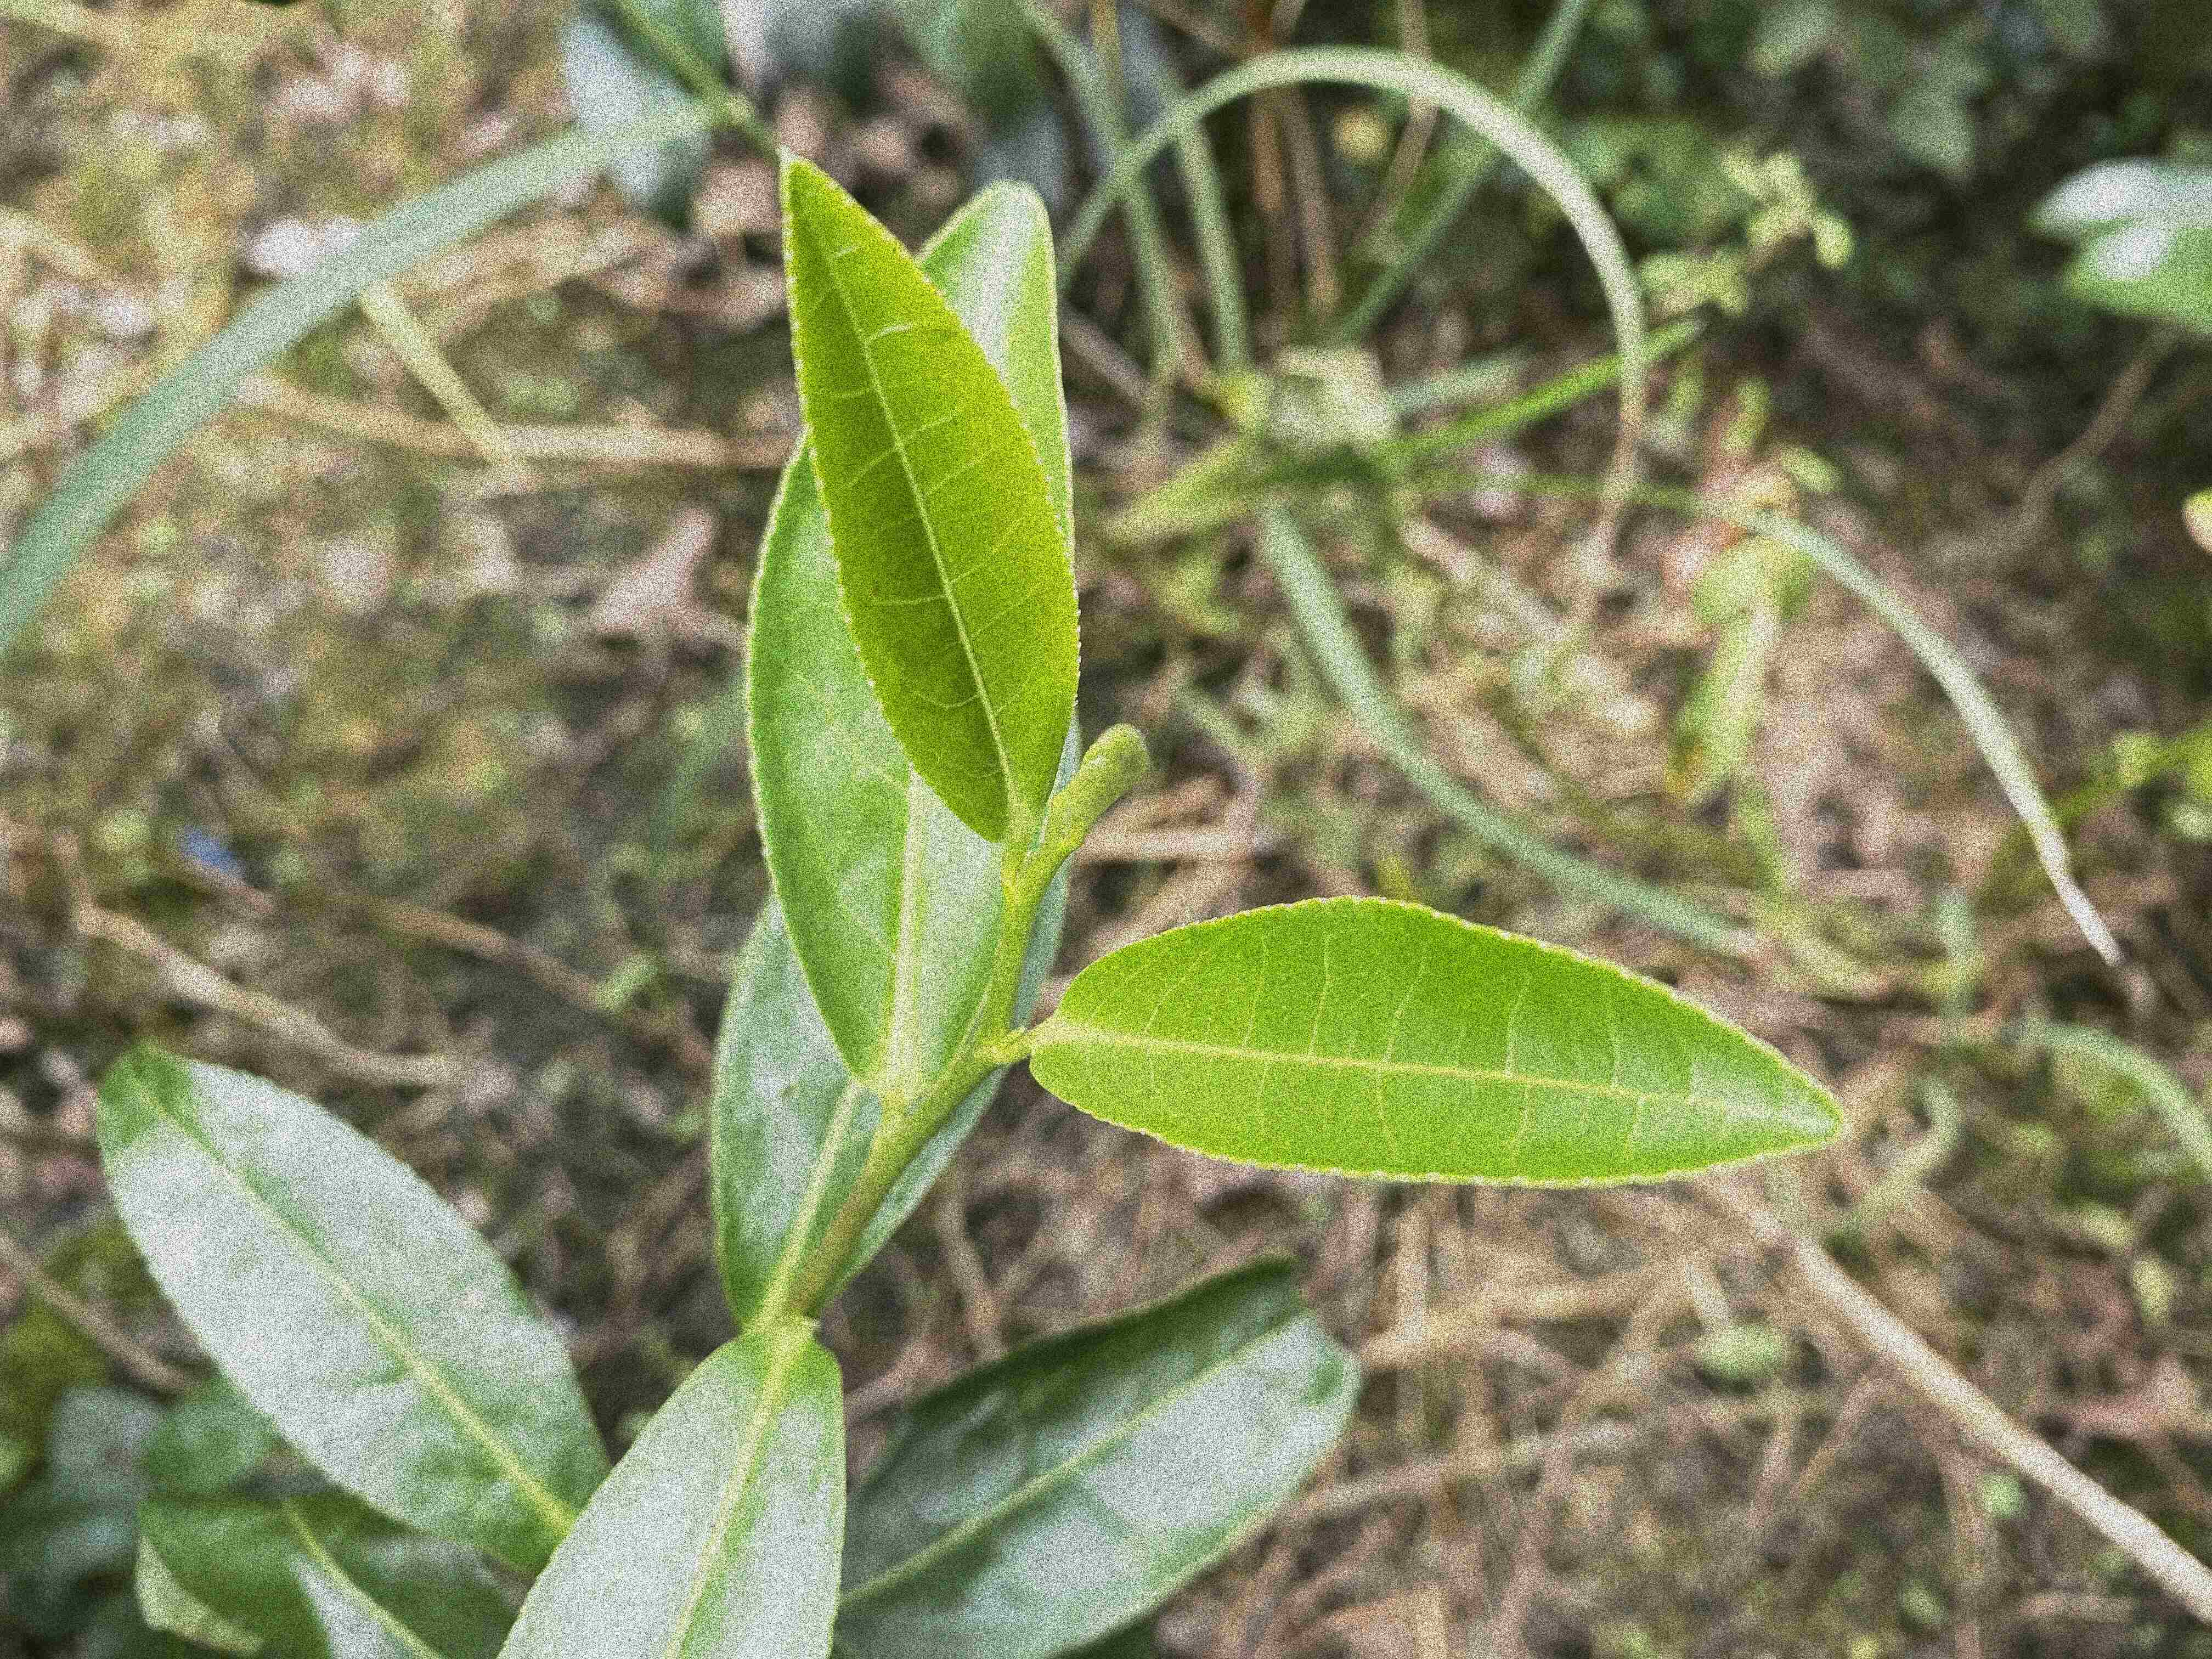healthy: (744, 174, 1080, 1112), (1029, 892, 1848, 1187), (779, 155, 1078, 849), (493, 1328, 846, 1657)
